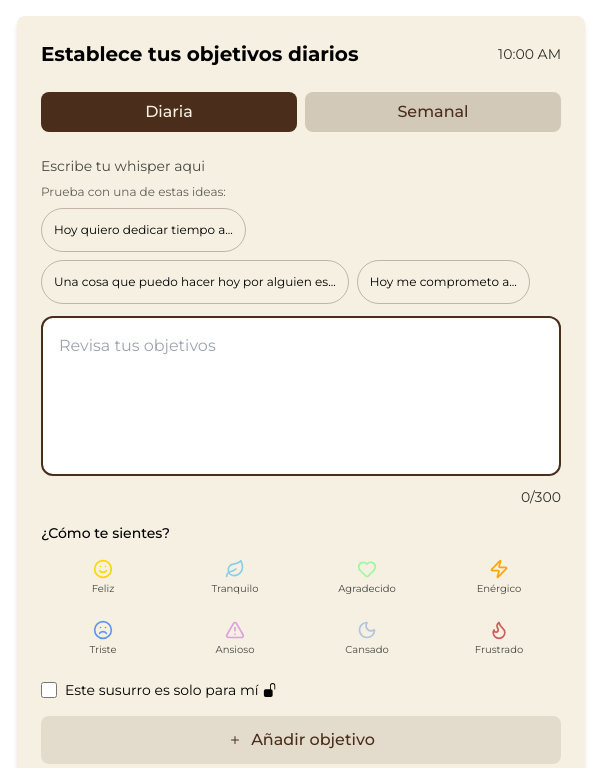
Test: WhisperForm › tab switching › switches to Semanal mode when clicking Semanal tab
The image size is (603, 768).
Step 1. Click the button "Semanal" → click(433, 112), box 305,92 -> 561,132
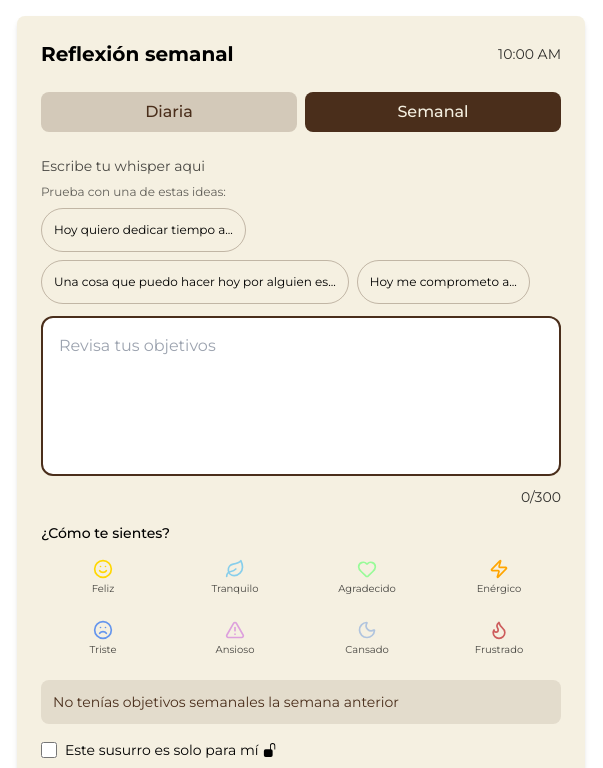
Check: the heading "Reflexión semanal" is shown, box 41,40 -> 234,68
